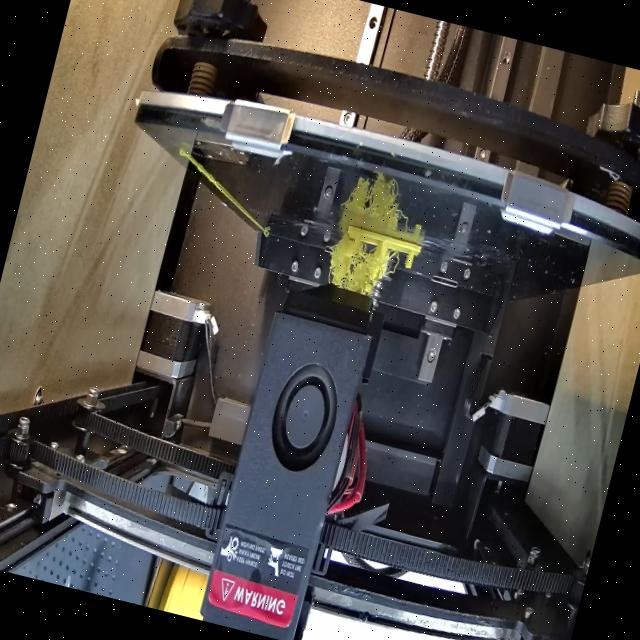spaghetti: (320, 236, 398, 301)
